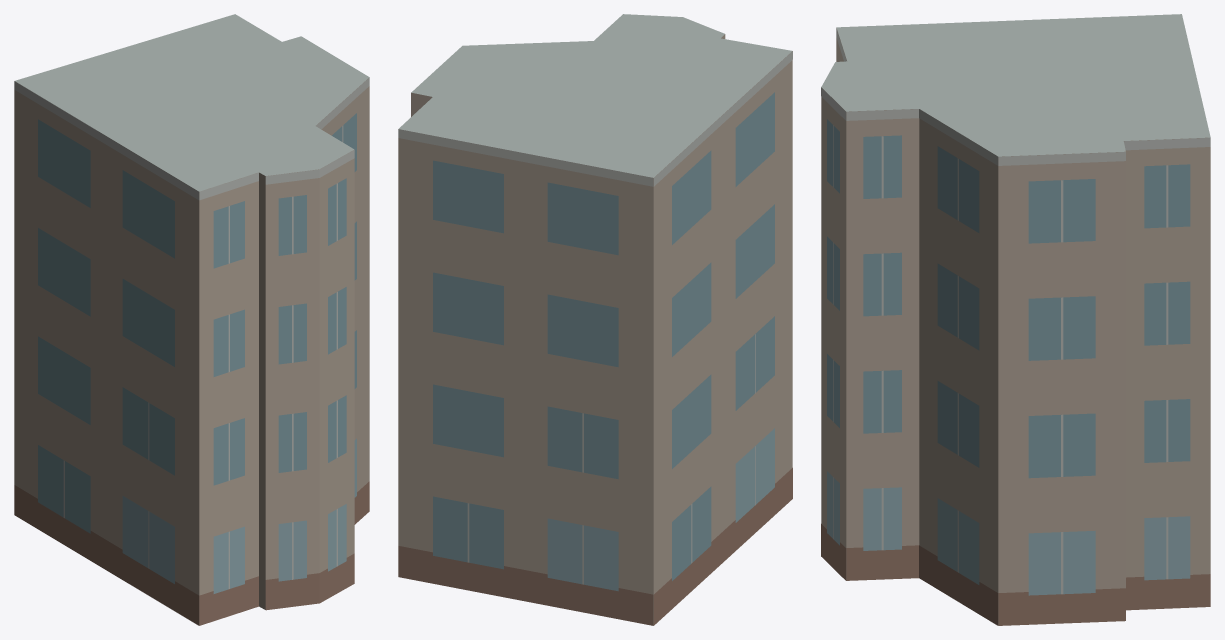
File: survey-upis-32594665.glb
3 renders of one model, left to right at view 1: azimuth 30°, elevation 25°; view 2: azimuth 150°, elevation 25°; view 3: azimuth 270°, elevation 25°, orthographic. The views are drawn at different scales.
Parts seen in each view (by area): view 1: survey-upis-32594665.tmp; view 2: survey-upis-32594665.tmp; view 3: survey-upis-32594665.tmp.
Part boxes in pixels (bbox=[...]): survey-upis-32594665.tmp: bbox=[14, 14, 369, 625]; survey-upis-32594665.tmp: bbox=[398, 14, 792, 625]; survey-upis-32594665.tmp: bbox=[821, 14, 1210, 625].
Size of the model in its own units: 7.96 by 12.2 by 9.19.
